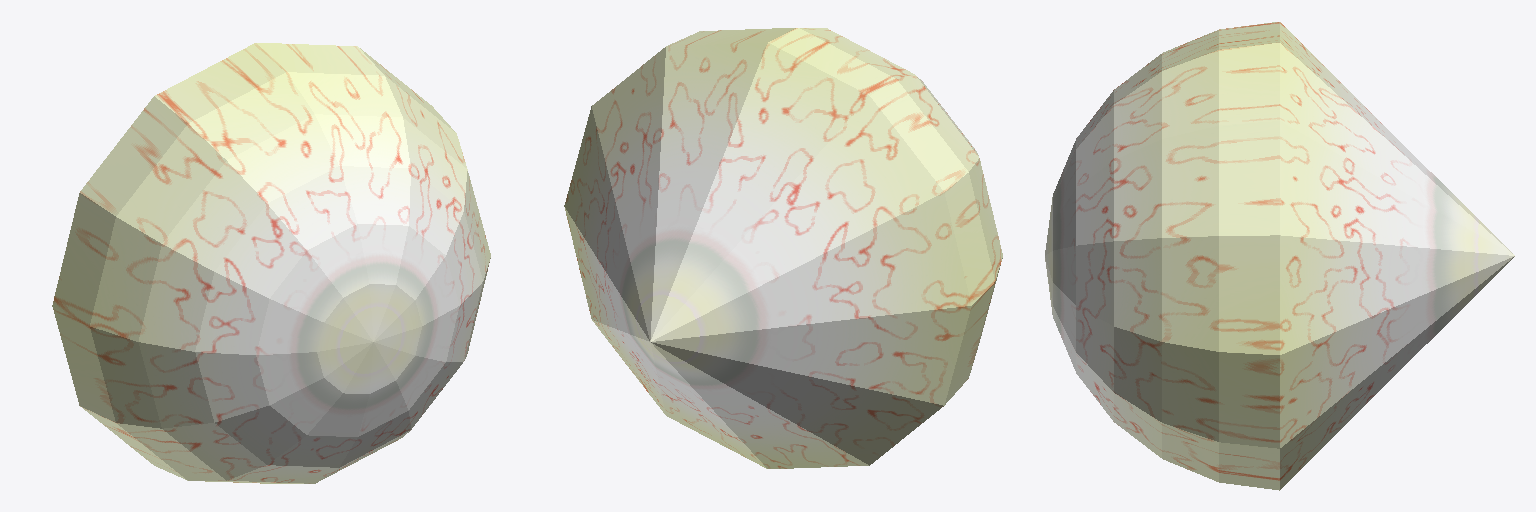
The picture shows the model from 3 angles: view 1: azimuth 30°, elevation 25°; view 2: azimuth 150°, elevation 25°; view 3: azimuth 270°, elevation 25°; orthographic projection.
Visible parts, largest first — view 1: zombie_eye_left_mesh; view 2: zombie_eye_left_mesh; view 3: zombie_eye_left_mesh.
Boxes of the visible parts, box(x1,y1,x2,y2) form: zombie_eye_left_mesh: box(52, 43, 490, 483); zombie_eye_left_mesh: box(564, 28, 1002, 468); zombie_eye_left_mesh: box(1045, 22, 1514, 490).
Size of the model in its own units: 0.0367 by 0.0367 by 0.0367.
Materials: 1 (1 with a texture image).